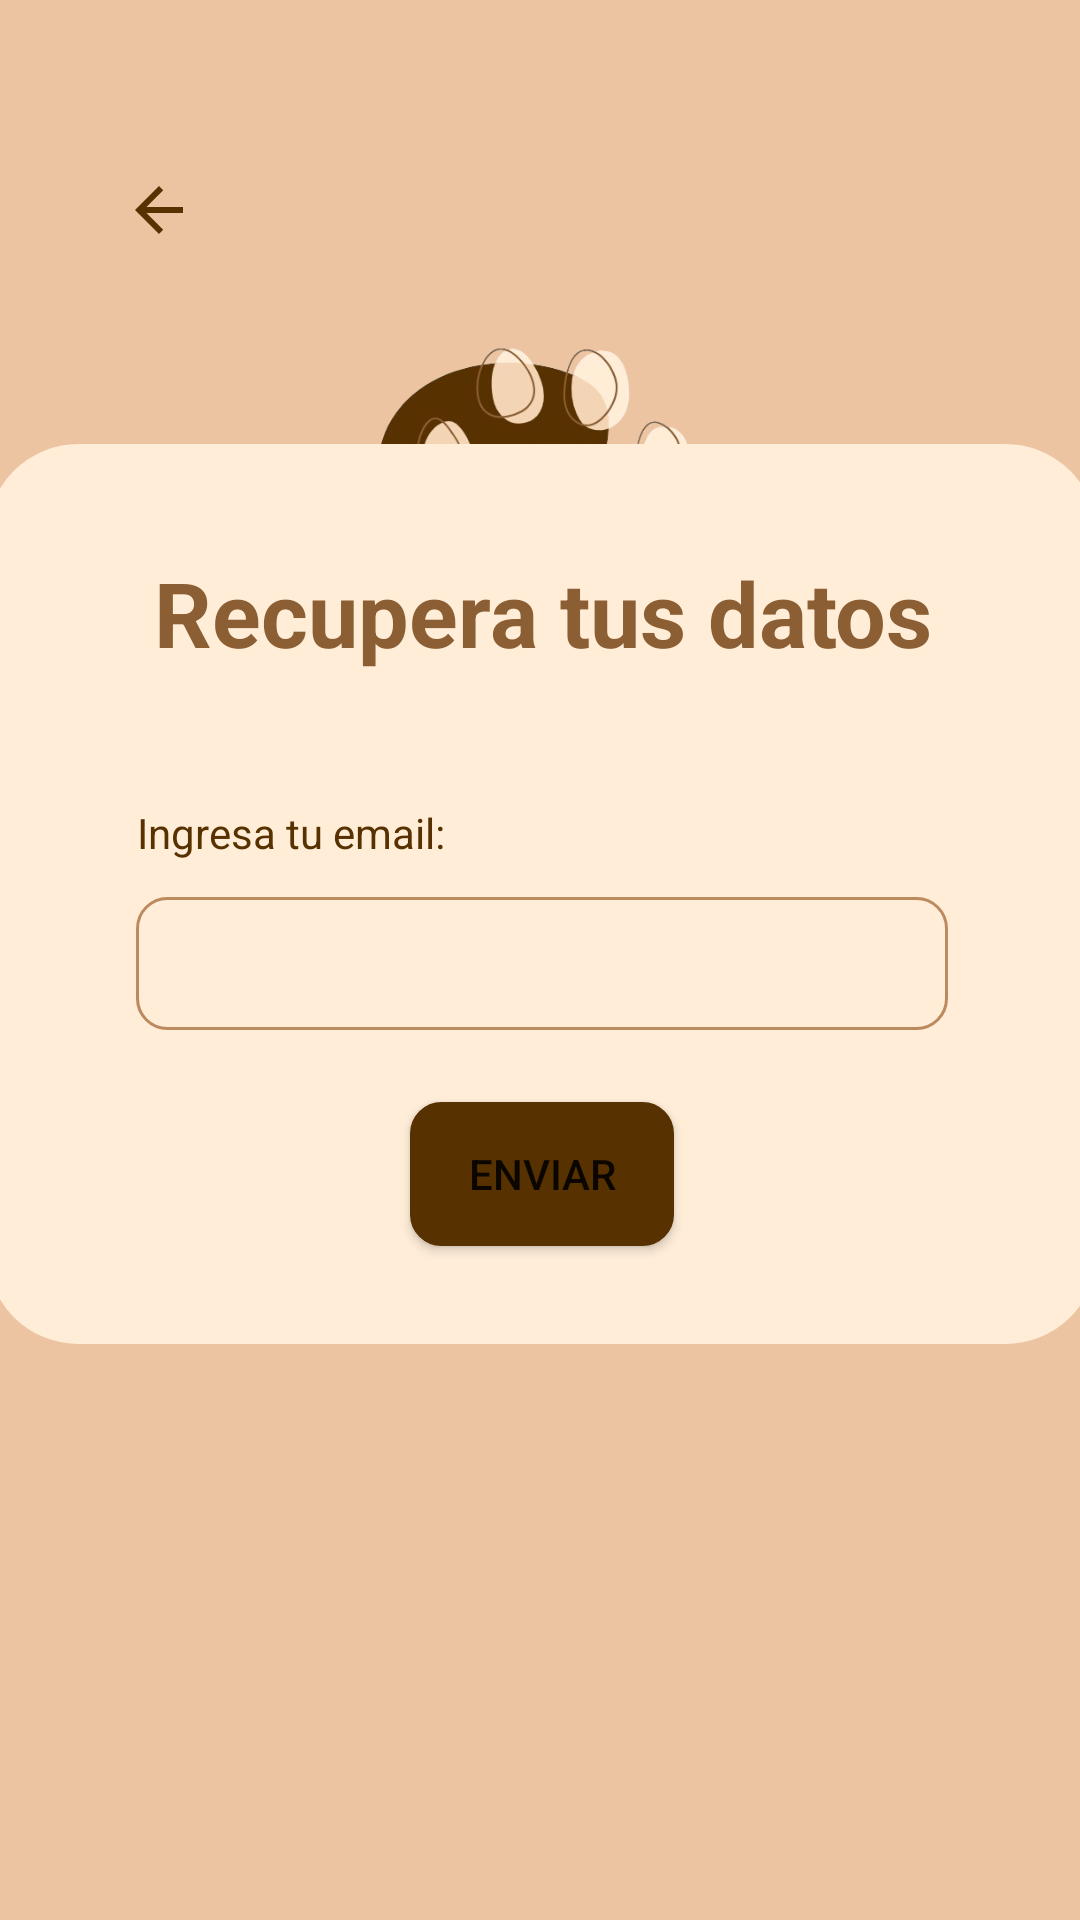

Named icons in this screenshot (1080 x 1920) and their bounding boxes, bbox=[x1, y1, x2, y2]:
arrow back: bbox=[135, 186, 183, 234]
